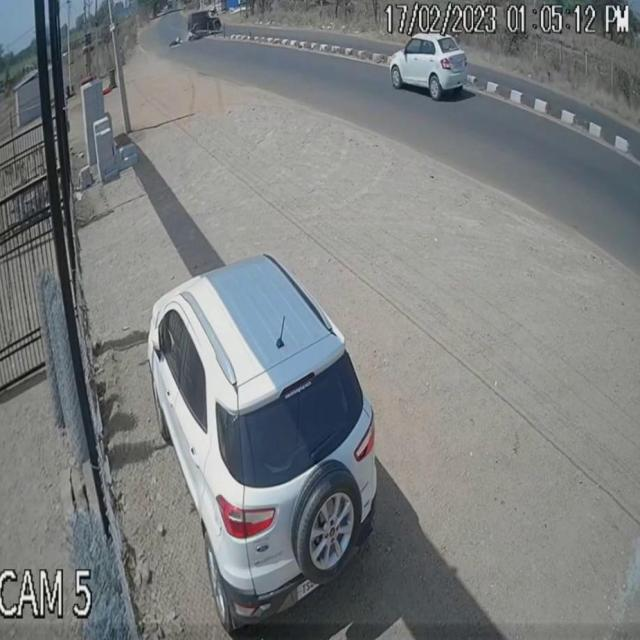accident: (164, 8, 224, 56)
